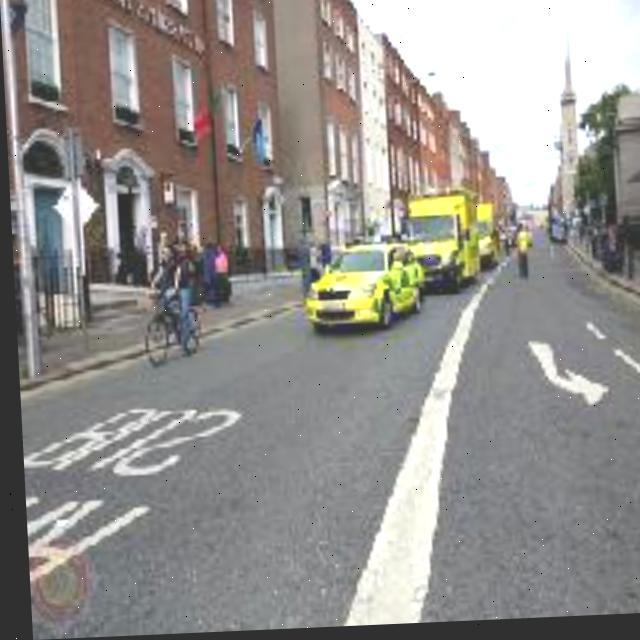emergency: (305, 242, 421, 326), (400, 183, 489, 292)
